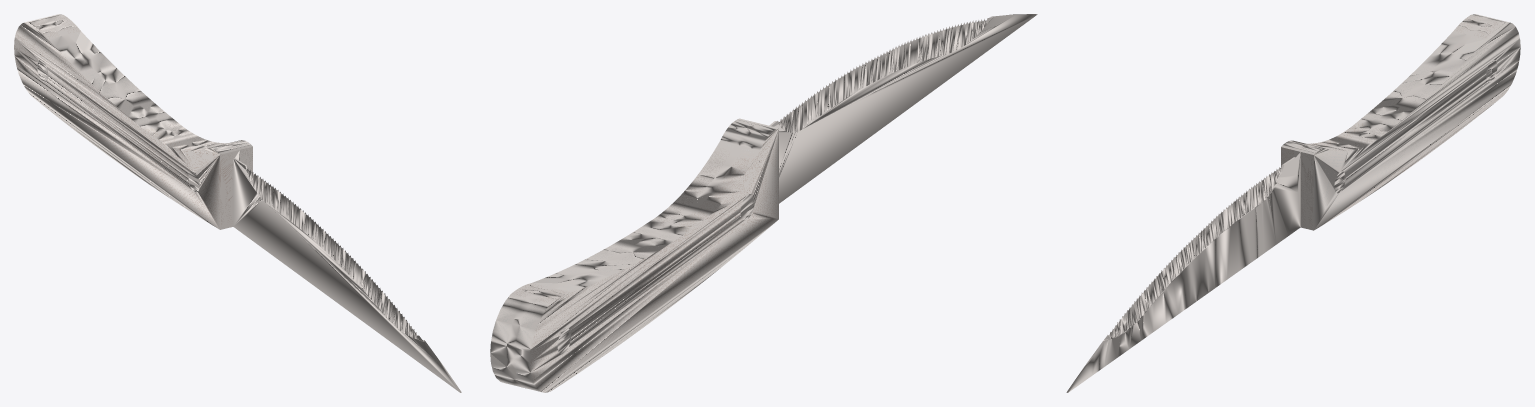
The model's file is model_align.obj.
3 renders of one model, left to right at view 1: azimuth 30°, elevation 25°; view 2: azimuth 150°, elevation 25°; view 3: azimuth 330°, elevation 25°, orthographic. The views are drawn at different scales.
Size of the model in its own units: 0.0105 by 0.0256 by 0.2398.
